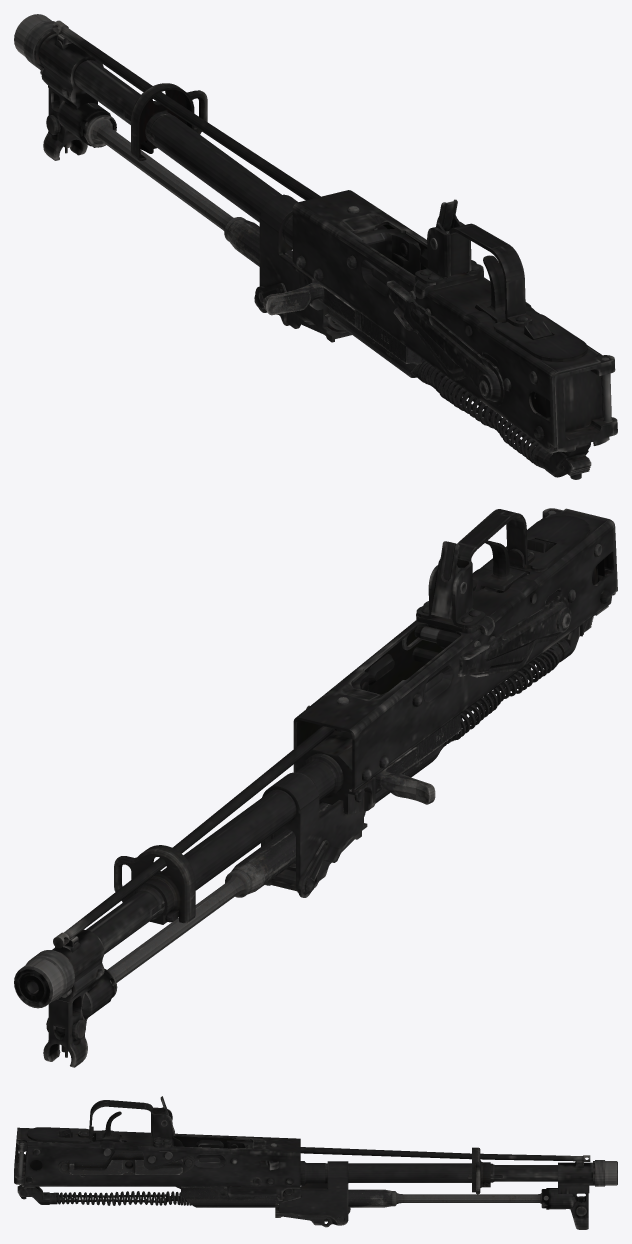
3 renders of one model, top to bottom at view 1: azimuth 30°, elevation 25°; view 2: azimuth 150°, elevation 25°; view 3: azimuth 270°, elevation 25°, orthographic. The views are drawn at different scales.
Visible parts, largest first — view 1: TW_5ac66d015acfc400180ae6e4_PZ_Import; view 2: TW_5ac66d015acfc400180ae6e4_PZ_Import; view 3: TW_5ac66d015acfc400180ae6e4_PZ_Import.
Part boxes in pixels (x1,y1,x2,y2): TW_5ac66d015acfc400180ae6e4_PZ_Import: (14, 14, 617, 479); TW_5ac66d015acfc400180ae6e4_PZ_Import: (14, 508, 617, 1067); TW_5ac66d015acfc400180ae6e4_PZ_Import: (14, 1096, 617, 1229).
Size of the model in its own units: 0.0424 by 0.3124 by 0.0735.
1 material, 1 textured.
